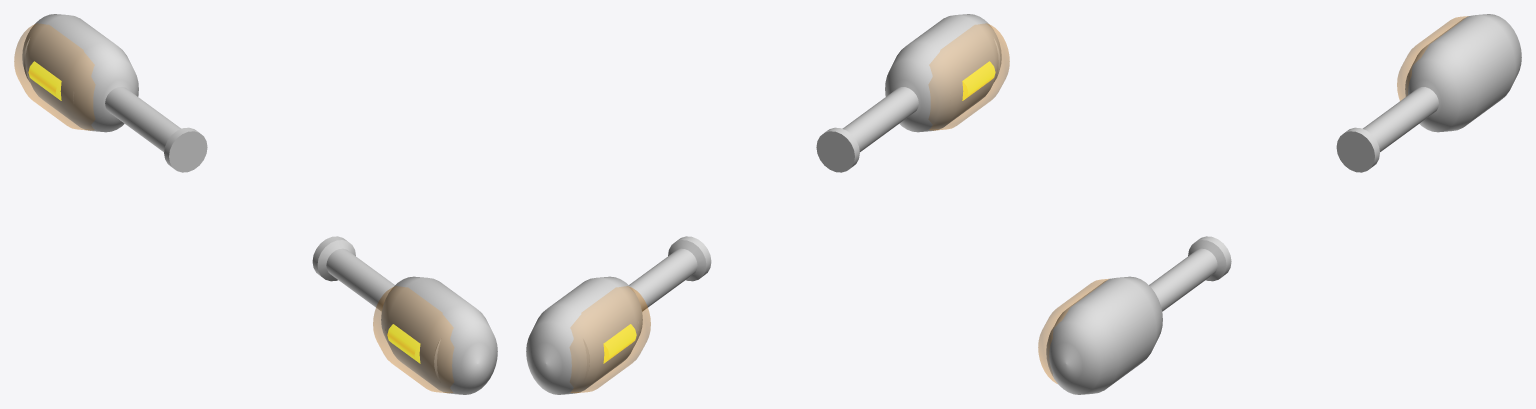
The model's file is chrome_long.glb.
The picture shows the model from 3 angles, left to right: view 1: azimuth 30°, elevation 25°; view 2: azimuth 150°, elevation 25°; view 3: azimuth 330°, elevation 25°; orthographic projection.
Visible parts, largest first — view 1: indicators_rear_chrome_long; view 2: indicators_rear_chrome_long; view 3: indicators_rear_chrome_long.
Boxes of the visible parts, x1=… form: indicators_rear_chrome_long: x1=14, y1=14, x2=497, y2=394; indicators_rear_chrome_long: x1=526, y1=14, x2=1009, y2=394; indicators_rear_chrome_long: x1=1038, y1=14, x2=1521, y2=394.
Size of the model in its own units: 0.0356 by 0.039 by 0.352.
